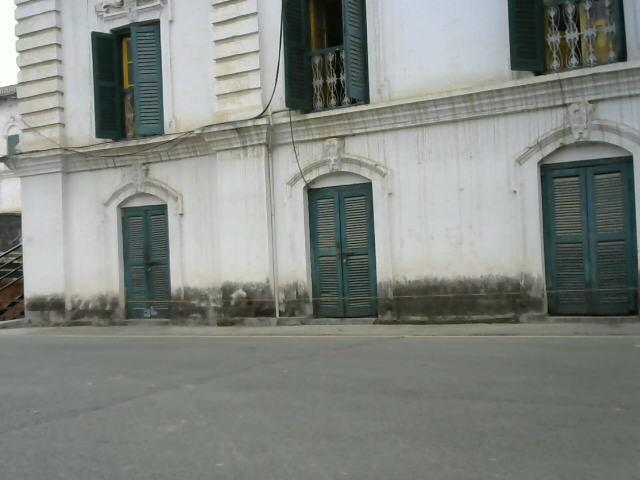Building: (16, 2, 639, 330)
Road: (1, 326, 640, 480)
